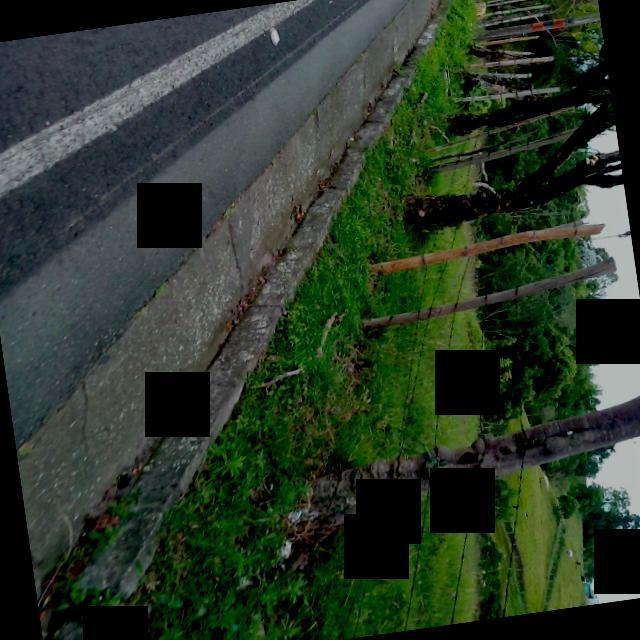DITCH: (0, 0, 611, 640), (0, 0, 567, 640)
